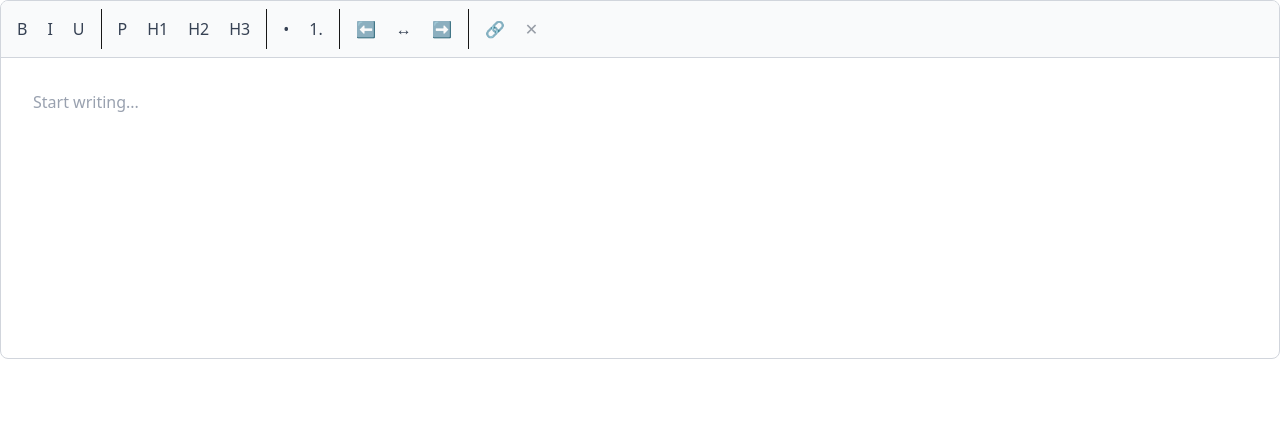
TiptapEditor › Link Dialog Functionality › link dialog can be opened and closed
The width and height of the screenshot is (1280, 443).
Open dialog
Click the button named "add link" at (495, 29), box [477,9,513,49]
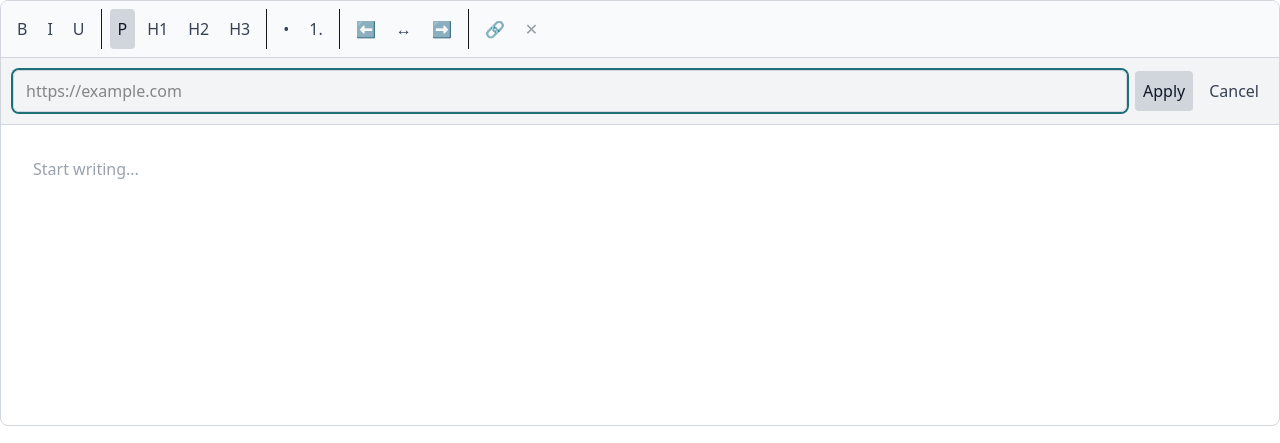
Result: the button "Cancel" is shown
Close dialog with cancel
Click the button "Cancel" at (1234, 91), box [1201,71,1267,111]
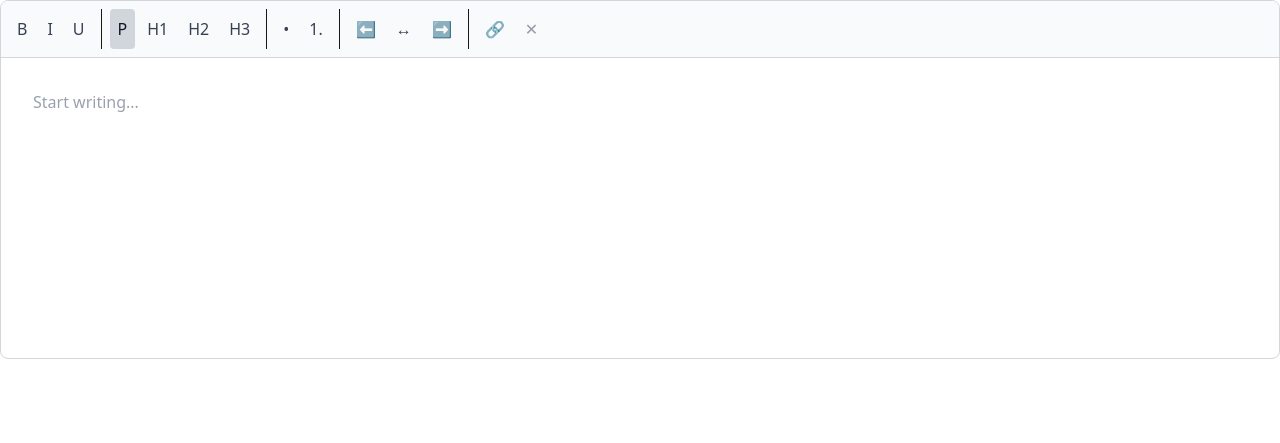
Result: the button "Cancel" is gone
